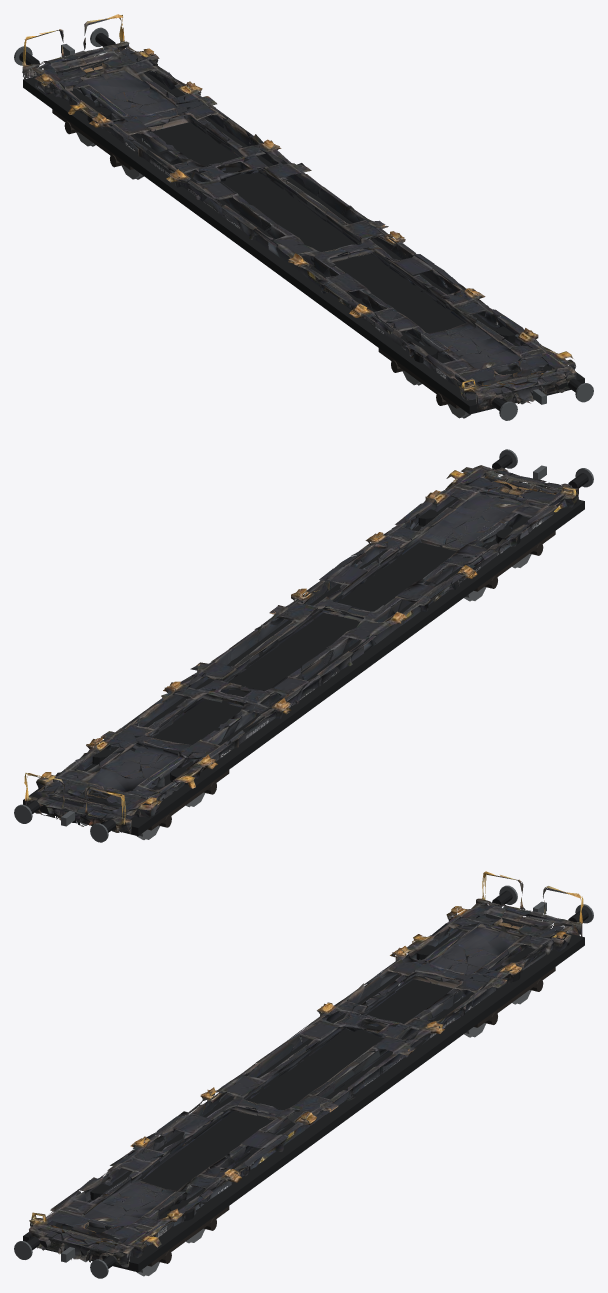
The model's file is sgns_m.glb.
3 renders of one model, top to bottom at view 1: azimuth 30°, elevation 25°; view 2: azimuth 150°, elevation 25°; view 3: azimuth 330°, elevation 25°, orthographic.
Parts seen in each view (by area): view 1: sgns_kori, sgns_frame; view 2: sgns_kori, sgns_frame; view 3: sgns_kori, sgns_frame.
Boxes of the visible parts, x1,y1,x2,y2 form: sgns_kori: (22,14,576,409); sgns_frame: (23,51,584,414); sgns_kori: (24,465,578,833); sgns_frame: (23,478,584,835); sgns_kori: (29,871,583,1267); sgns_frame: (23,913,584,1272).
Bounding box in the file's own units: 2.88 × 1.75 × 19.39.
Materials: 5 (1 with a texture image).
